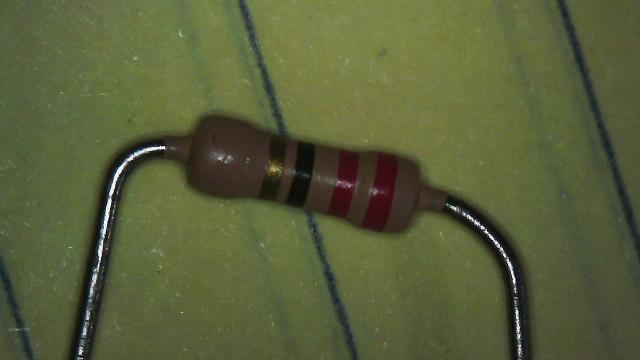black: (286, 142, 314, 207)
gold: (258, 136, 286, 201)
red: (361, 154, 398, 231), (328, 151, 359, 218)
resistor: (168, 90, 445, 252)
